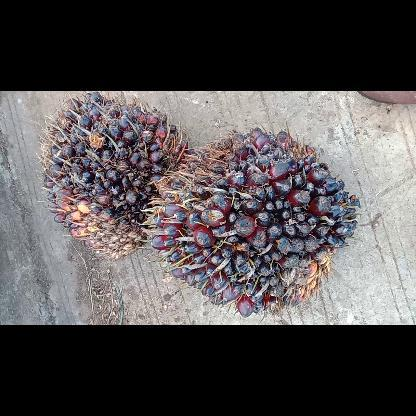TBS mentah: (152, 128, 360, 316), (40, 90, 186, 262)
